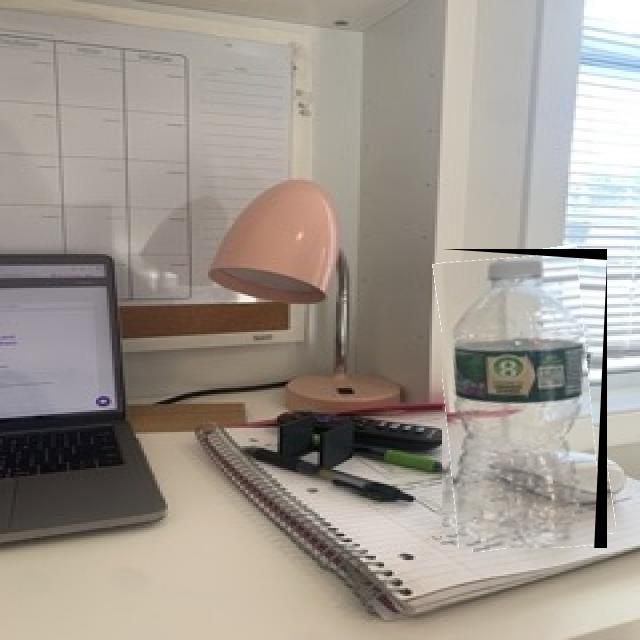water_bottle: (442, 249, 607, 548)
